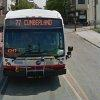buses: (0, 7, 75, 81)
